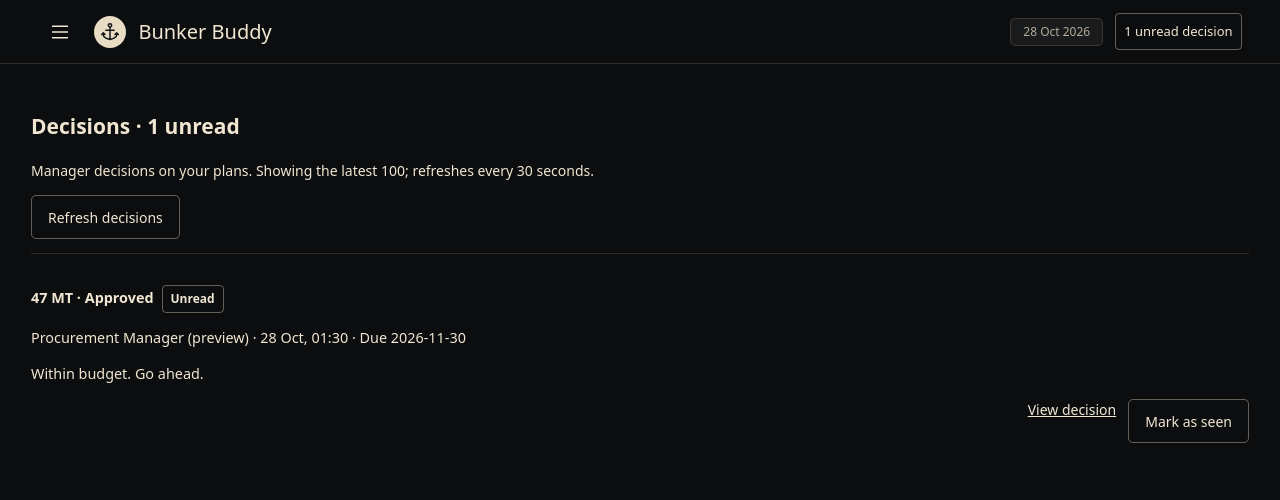
Test case: marks buyer decisions seen and updates the shared navigation badge only after success
The width and height of the screenshot is (1280, 500).
Expected: the link "1 unread decision" is shown, x1=1115 y1=13 x2=1242 y2=50
Click the button "Mark as seen" at (1189, 421), box x1=1128 y1=399 x2=1249 y2=443
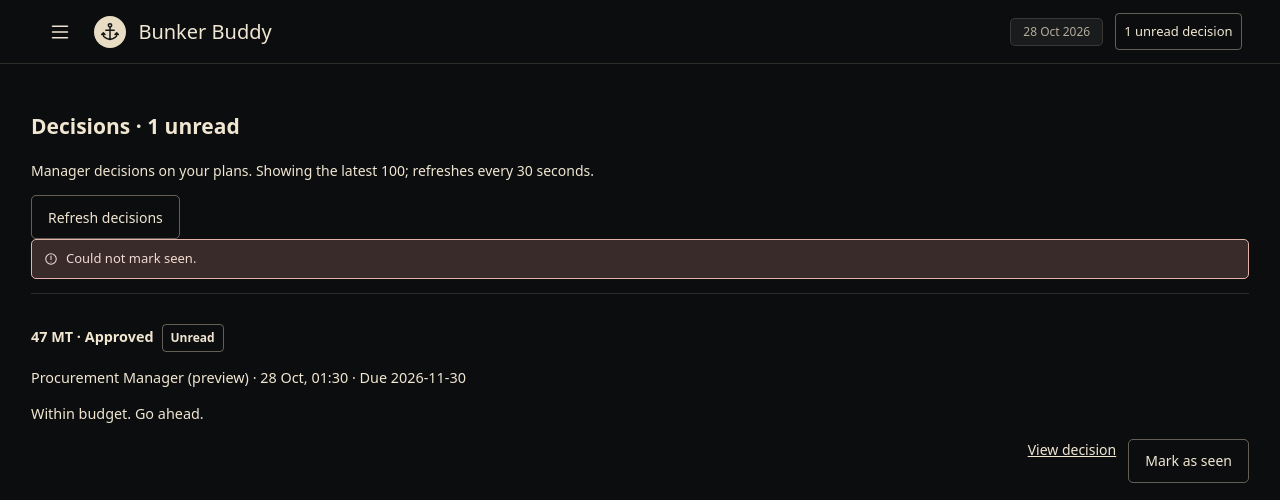
Expected: the link "1 unread decision" is shown, x1=1115 y1=13 x2=1242 y2=50
Now the message reads "Could not mark seen.", box x1=66 y1=249 x2=196 y2=267
Click the button "Mark as seen" at (1189, 461), box x1=1128 y1=439 x2=1249 y2=483
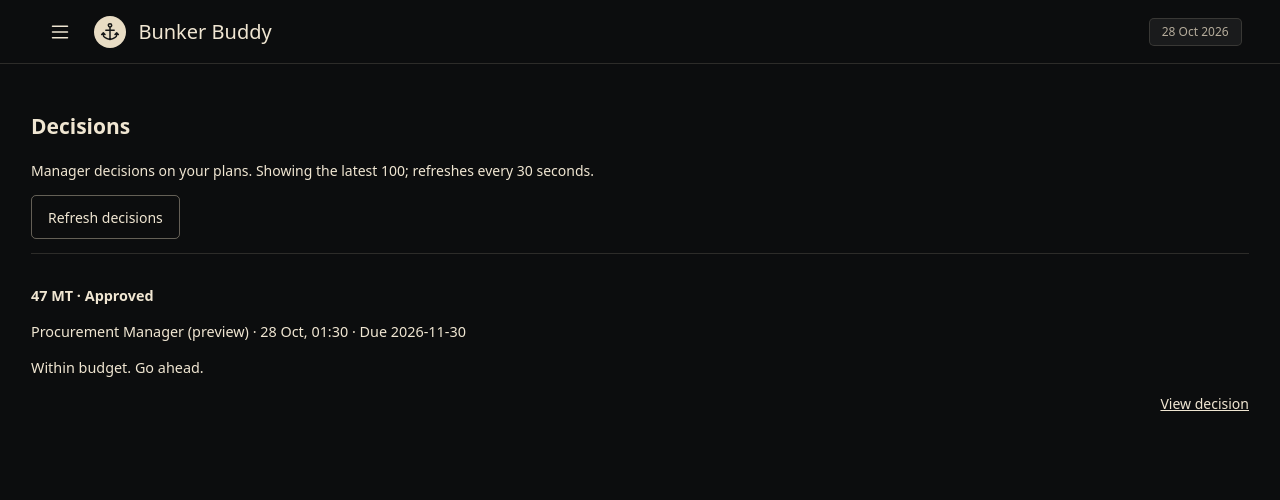
Now the link "1 unread decision" is gone
